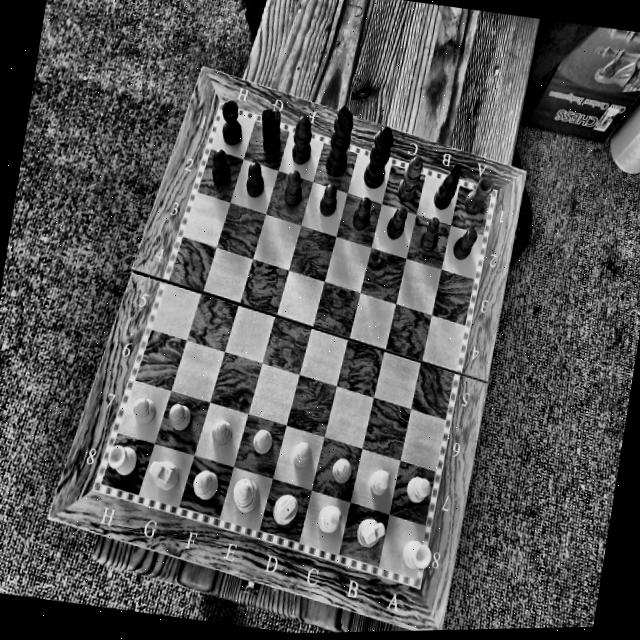black-bishop: (395, 152, 427, 208), (289, 112, 318, 169)
black-king: (322, 102, 358, 180)
black-knight: (428, 160, 469, 219), (256, 107, 288, 158)
black-pawn: (241, 157, 273, 202), (204, 147, 237, 189), (278, 169, 310, 211), (416, 212, 446, 256), (451, 223, 482, 264), (348, 191, 376, 236), (315, 180, 343, 220), (385, 202, 410, 244)
black-queen: (362, 121, 396, 193)
black-rook: (462, 173, 497, 222), (215, 99, 250, 148)
white-bishop: (312, 499, 349, 538), (190, 465, 223, 507)
white-king: (269, 491, 304, 532)
white-knight: (144, 453, 184, 497), (352, 513, 390, 559)
white-pawn: (405, 473, 435, 512), (129, 392, 159, 429), (166, 401, 193, 435), (291, 439, 316, 474), (331, 455, 356, 489), (369, 465, 394, 499), (208, 419, 234, 450), (252, 424, 275, 458)
white-queen: (228, 472, 265, 518)
white-rook: (398, 529, 440, 582), (102, 441, 142, 482)
